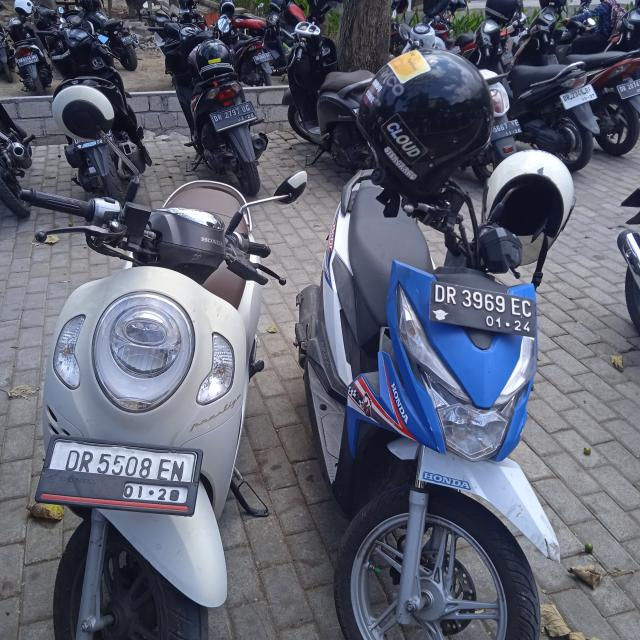plate: (41, 437, 202, 510), (428, 280, 539, 340), (208, 100, 260, 134), (559, 83, 598, 110)
